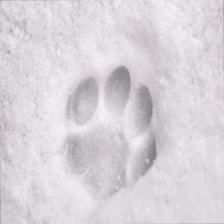cat: (60, 68, 164, 201)
